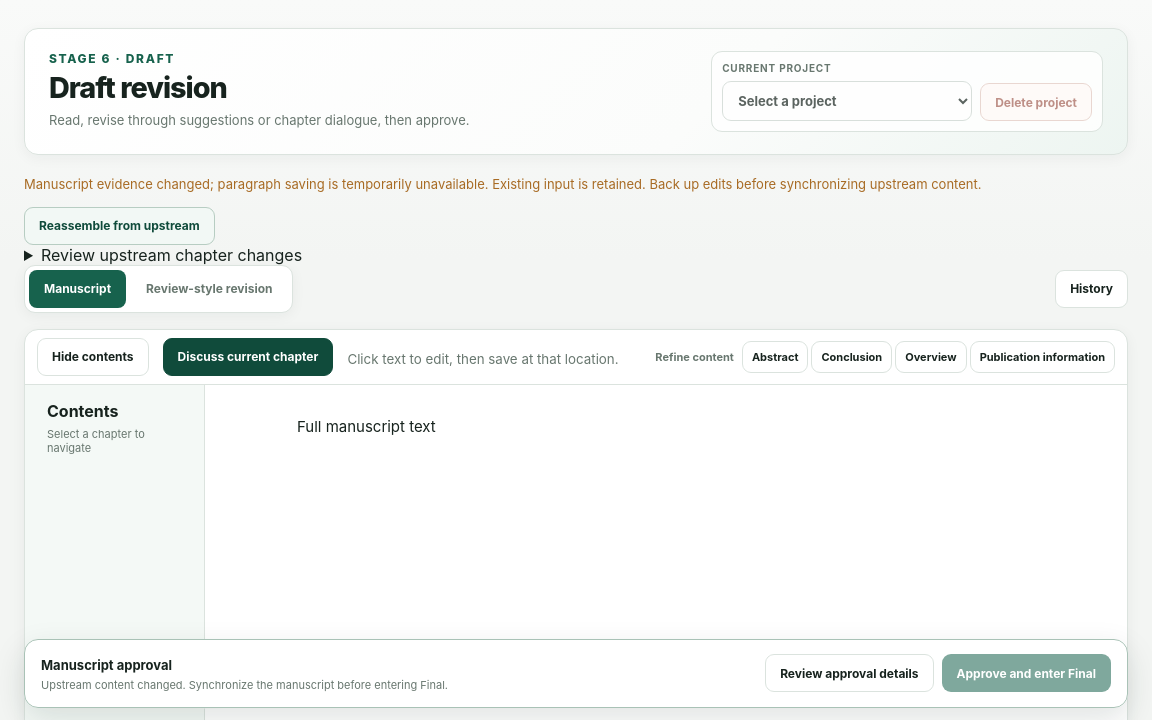
it: refreshes overview source readiness after reassembling upstream content
Click the button "Overview" at (931,357), box [895,341,967,373]
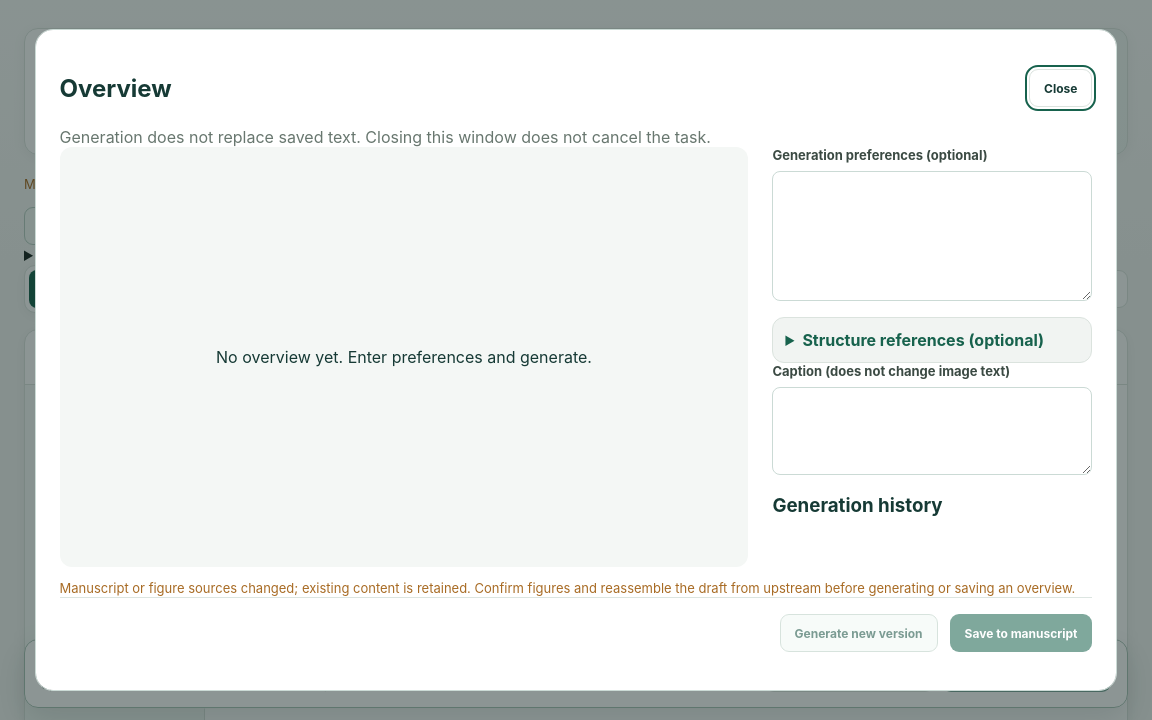
Expected: the text "Manuscript or figure sources changed" is shown, [60,580,1075,596]
Expected: the button "Generate new version" is disabled, [780,614,938,652]
Click the button "Close" at (1061,88), box [1029,69,1092,107]
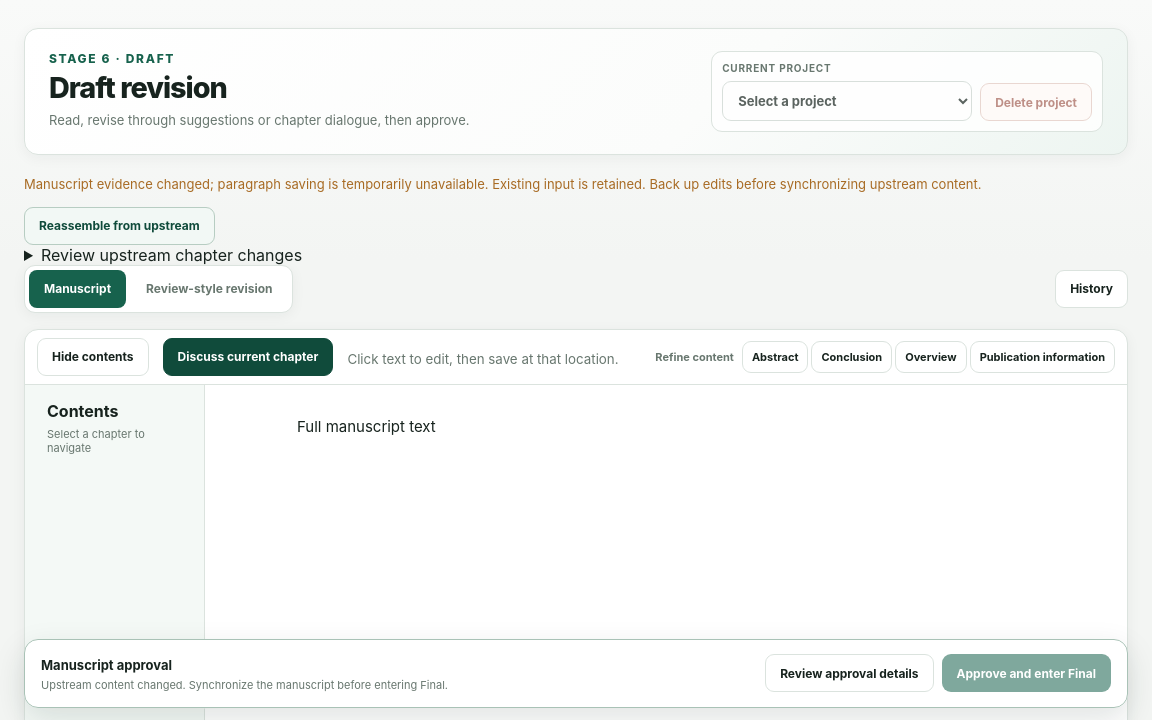
Click the button "Reassemble from upstream" at (119,226), box [24,207,215,245]
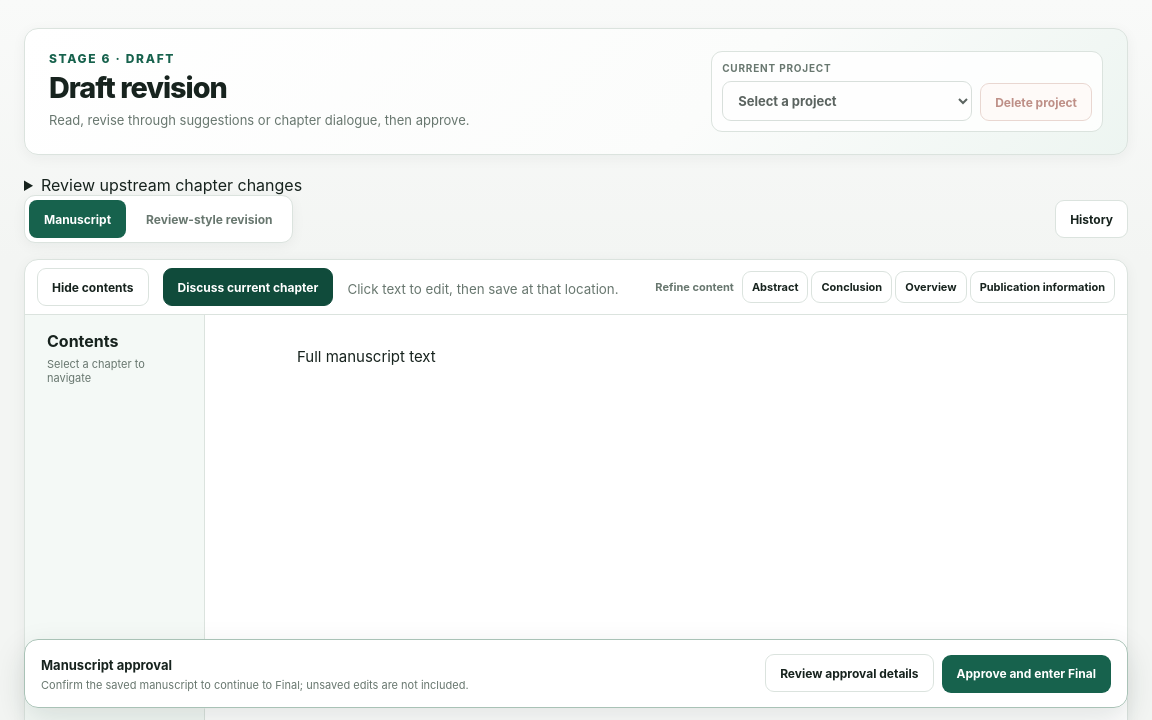
Expected: the button "Reassemble from upstream" is gone
Click the button "Overview" at (931,287), box [895,271,967,303]
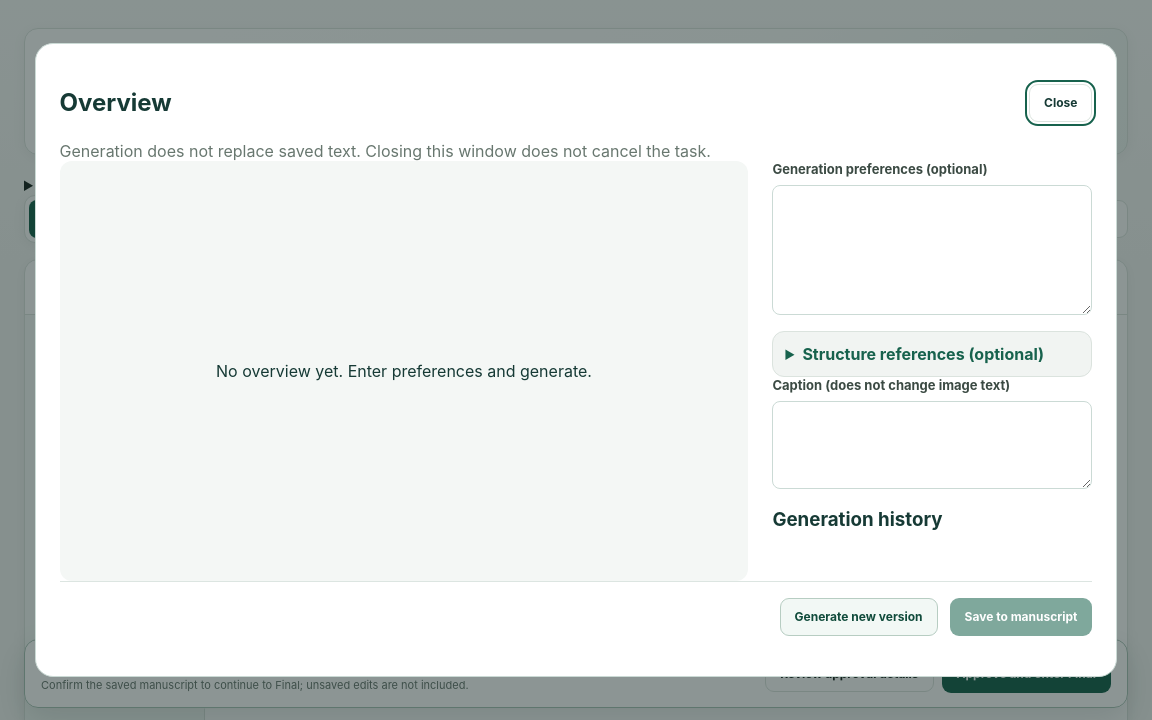
Expected: the text "Manuscript or figure sources changed" is not shown
Expected: the button "Generate new version" is enabled, [780,598,938,636]
